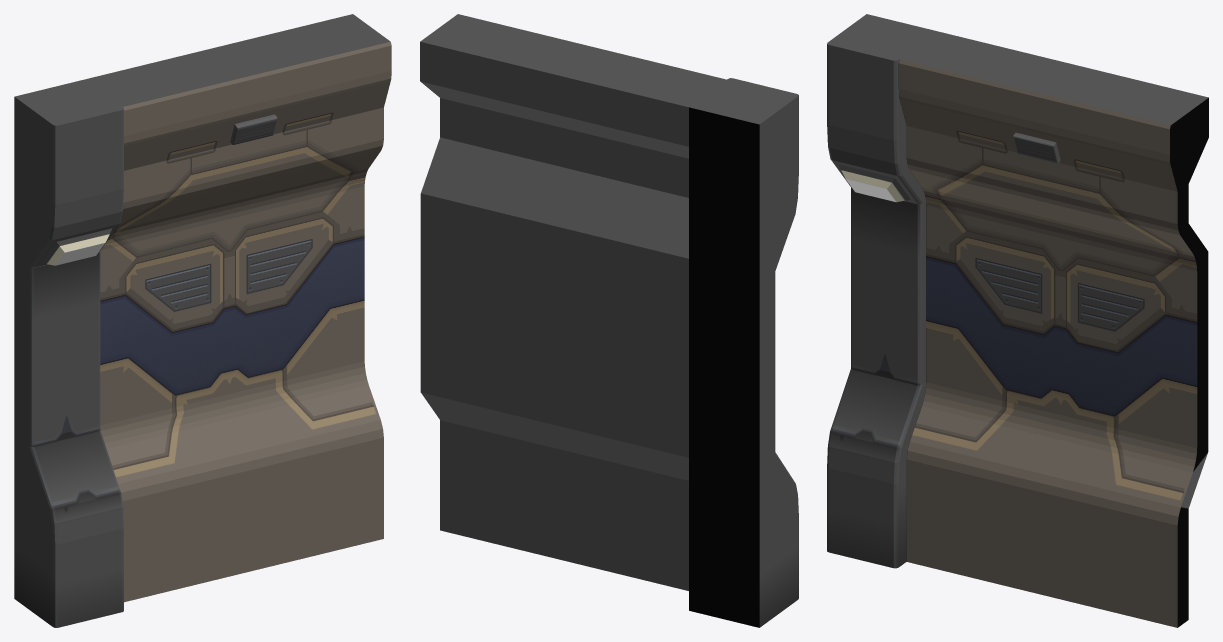
File: Scifi_Wall_1.glb
3 views of the same model, side by side, from view 1: azimuth 30°, elevation 25°; view 2: azimuth 150°, elevation 25°; view 3: azimuth 330°, elevation 25° (orthographic).
Visible parts, largest first — view 1: Scifi_Wall_2; view 2: Scifi_Wall_2; view 3: Scifi_Wall_2.
Boxes of the visible parts, x1,y1,x2,y2 form: Scifi_Wall_2: [14, 14, 391, 627]; Scifi_Wall_2: [420, 14, 798, 627]; Scifi_Wall_2: [827, 14, 1208, 627].
Bounding box in the file's own units: 1.78 × 2.53 × 0.3708.
Materials: 1 (1 with a texture image).
